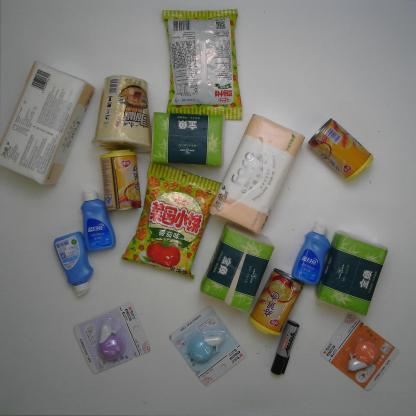Canned Food: (309, 119, 374, 183), (247, 268, 304, 338), (100, 147, 144, 214)
Instant Noodles: (96, 72, 158, 154)
Personal Hygiene: (51, 228, 94, 298), (292, 223, 332, 289), (80, 188, 116, 252)
Puffed Food: (119, 159, 222, 283), (159, 7, 247, 122)
Stationery: (315, 315, 398, 394), (168, 304, 246, 386), (68, 302, 153, 374), (268, 318, 299, 377)
Tissue: (1, 60, 97, 187), (209, 113, 307, 234), (200, 222, 280, 314), (316, 230, 392, 314), (148, 106, 228, 170)
